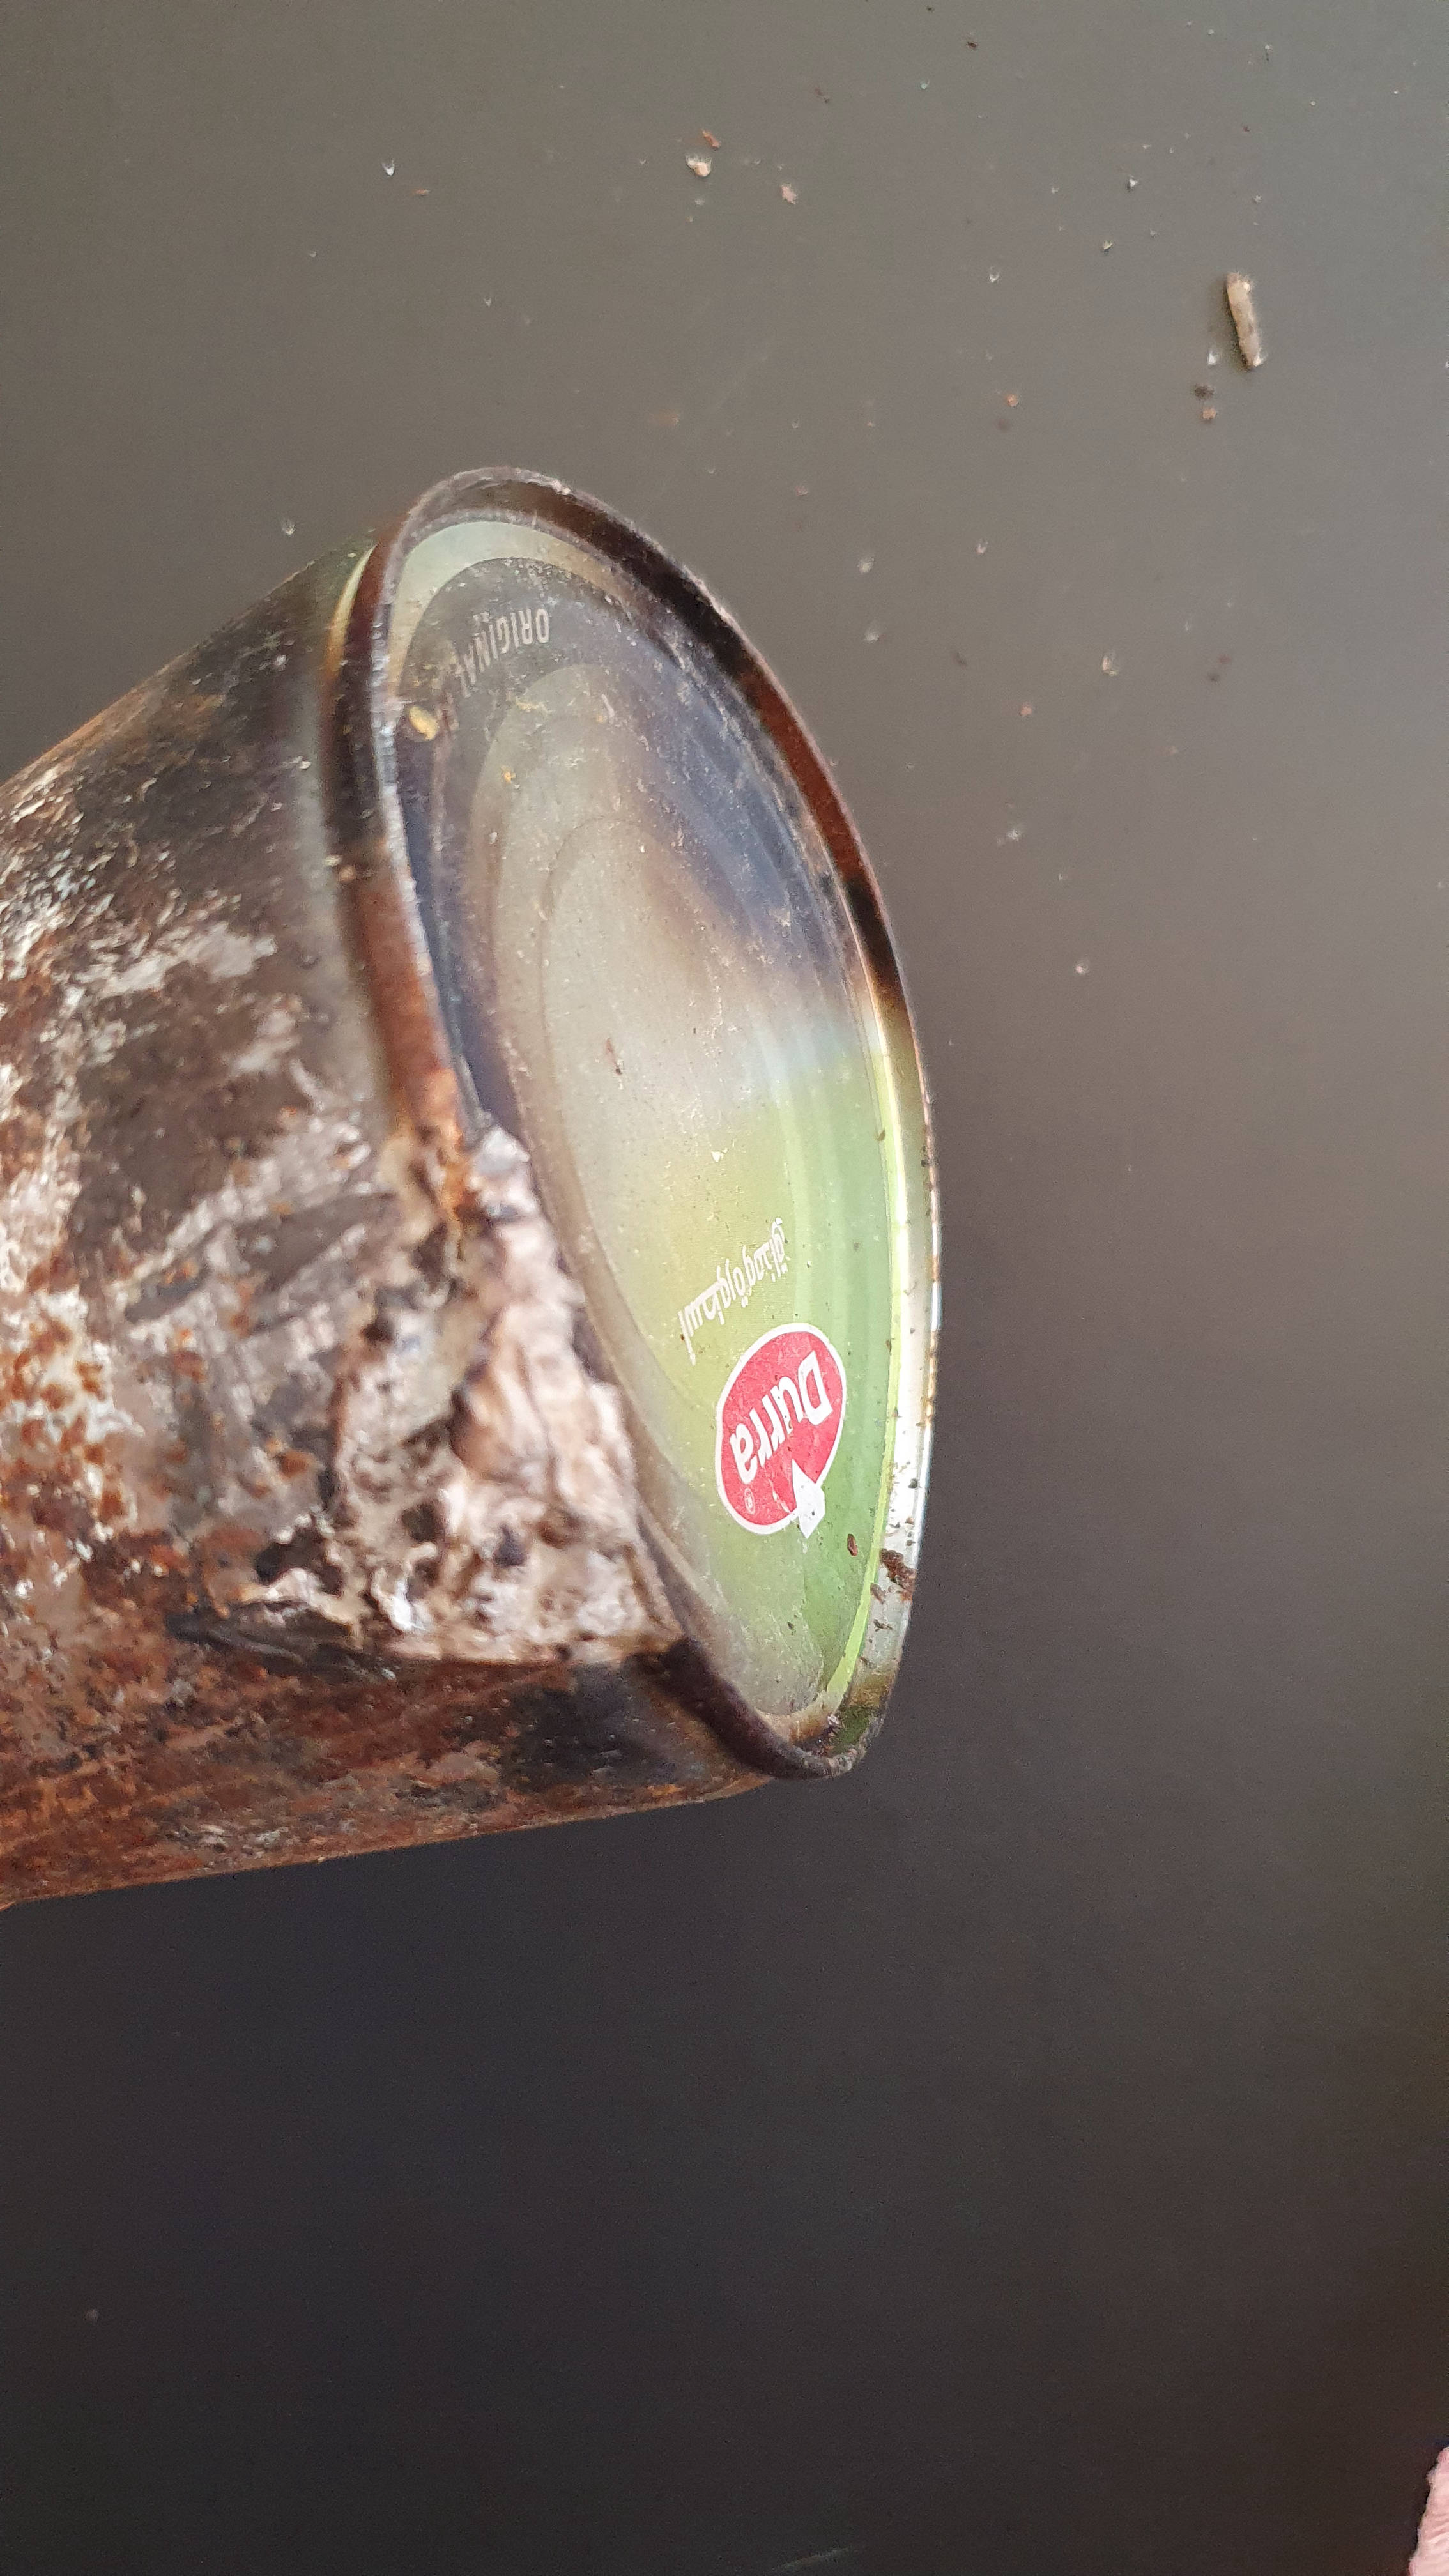metal: (0, 391, 996, 2127)
